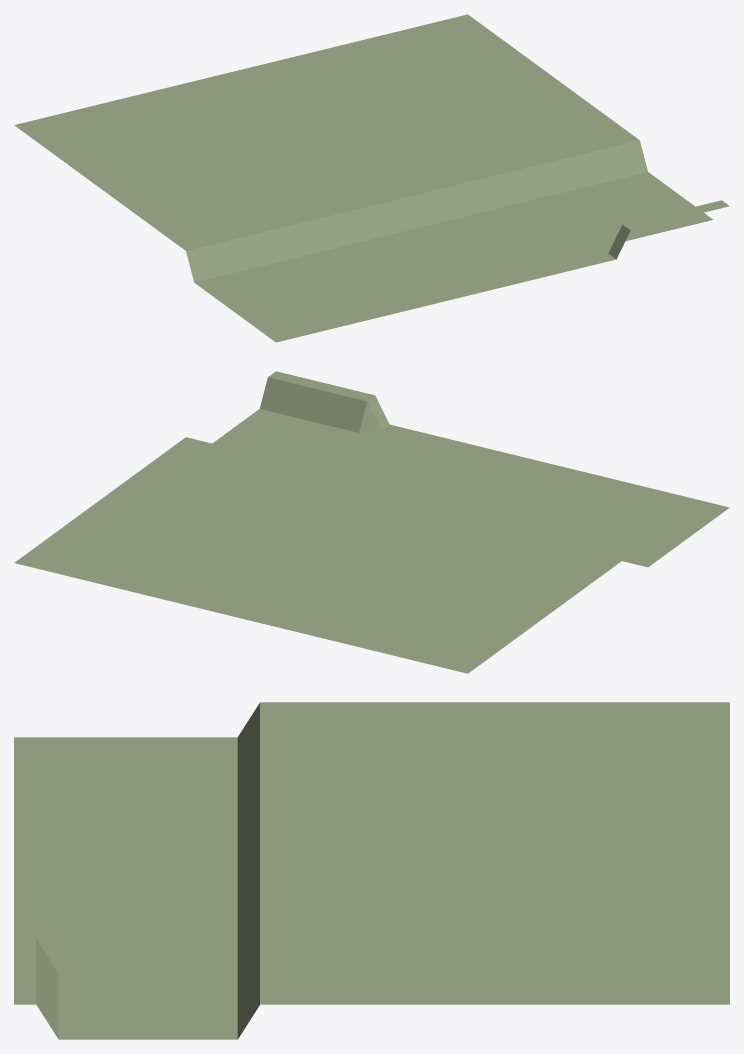
File: canal-2-1.glb
The picture shows the model from 3 angles, top to bottom: view 1: azimuth 30°, elevation 25°; view 2: azimuth 150°, elevation 25°; view 3: azimuth 270°, elevation 25°; orthographic projection. The views are drawn at different scales.
Parts seen in each view (by area): view 1: canal-2-1; view 2: canal-2-1; view 3: canal-2-1.
Boxes of the visible parts, bbox=[...] form: canal-2-1: bbox=[14, 14, 729, 342]; canal-2-1: bbox=[14, 371, 729, 673]; canal-2-1: bbox=[14, 702, 729, 1039].
Size of the model in its own units: 128 by 6.9 by 128.
